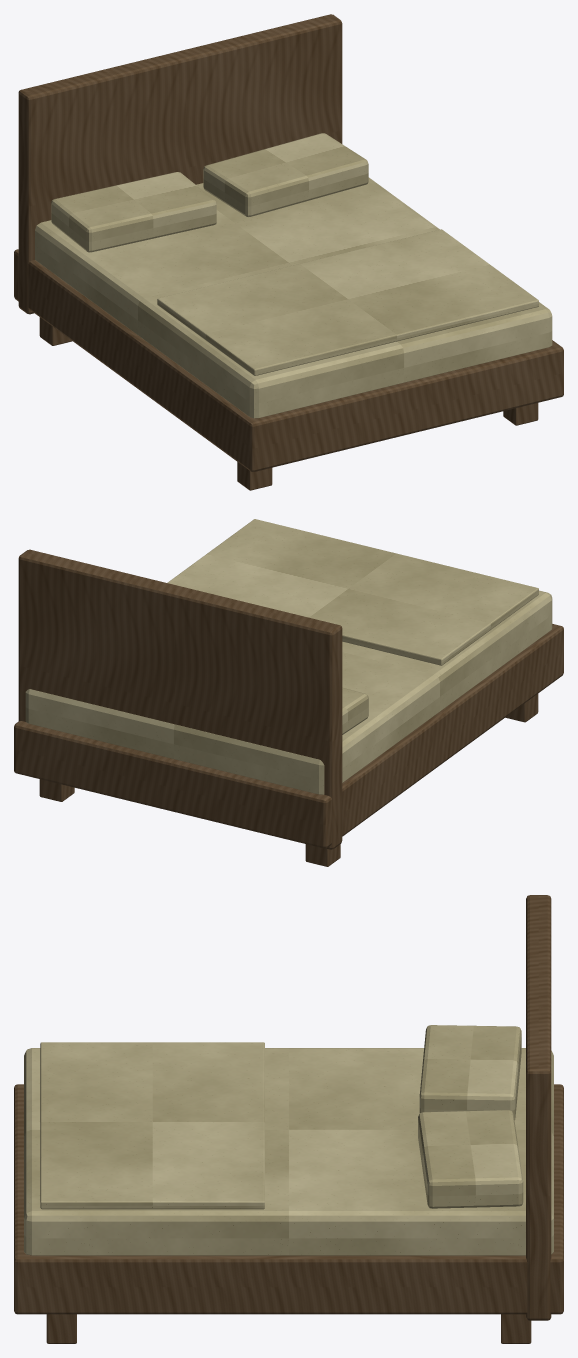
File: bedroom_bed.glb
3 views of the same model, one above another, from view 1: azimuth 30°, elevation 25°; view 2: azimuth 150°, elevation 25°; view 3: azimuth 270°, elevation 25° (orthographic). The views are drawn at different scales.
Parts seen in each view (by area): view 1: Bed mattress, Bed headboard, Bed folded blanket, Bed worn timber frame, Worn pillow, Worn pillow.001, Bed foot; view 2: Bed headboard, Bed worn timber frame, Bed folded blanket, Bed mattress, Worn pillow, Bed foot.001, Bed foot.003, Bed foot; view 3: Bed mattress, Bed folded blanket, Bed worn timber frame, Bed headboard, Worn pillow.001, Worn pillow, Bed foot.002, Bed foot.003.
Boxes of the visible parts, <box> form: Bed mattress: <box>35,177,552,418</box>; Bed headboard: <box>18,14,342,314</box>; Bed folded blanket: <box>157,229,538,375</box>; Bed worn timber frame: <box>14,249,563,471</box>; Worn pillow: <box>51,172,216,252</box>; Worn pillow.001: <box>203,133,368,216</box>; Bed foot: <box>237,462,272,490</box>; Bed headboard: <box>18,549,342,849</box>; Bed worn timber frame: <box>14,624,563,848</box>; Bed folded blanket: <box>167,519,538,665</box>; Bed mattress: <box>25,590,552,794</box>; Worn pillow: <box>342,687,368,734</box>; Bed foot.001: <box>305,844,340,866</box>; Bed foot.003: <box>39,779,74,801</box>; Bed foot: <box>505,693,538,722</box>; Bed mattress: <box>24,1048,553,1255</box>; Bed folded blanket: <box>40,1042,264,1209</box>; Bed worn timber frame: <box>14,1084,563,1314</box>; Bed headboard: <box>526,895,551,1320</box>; Worn pillow.001: <box>418,1110,523,1208</box>; Worn pillow: <box>419,1025,521,1119</box>; Bed foot.002: <box>46,1314,76,1343</box>; Bed foot.003: <box>501,1314,531,1343</box>.
Size of the model in its own units: 1.66 by 1.23 by 2.18.
Materials: 2 (2 with a texture image).
